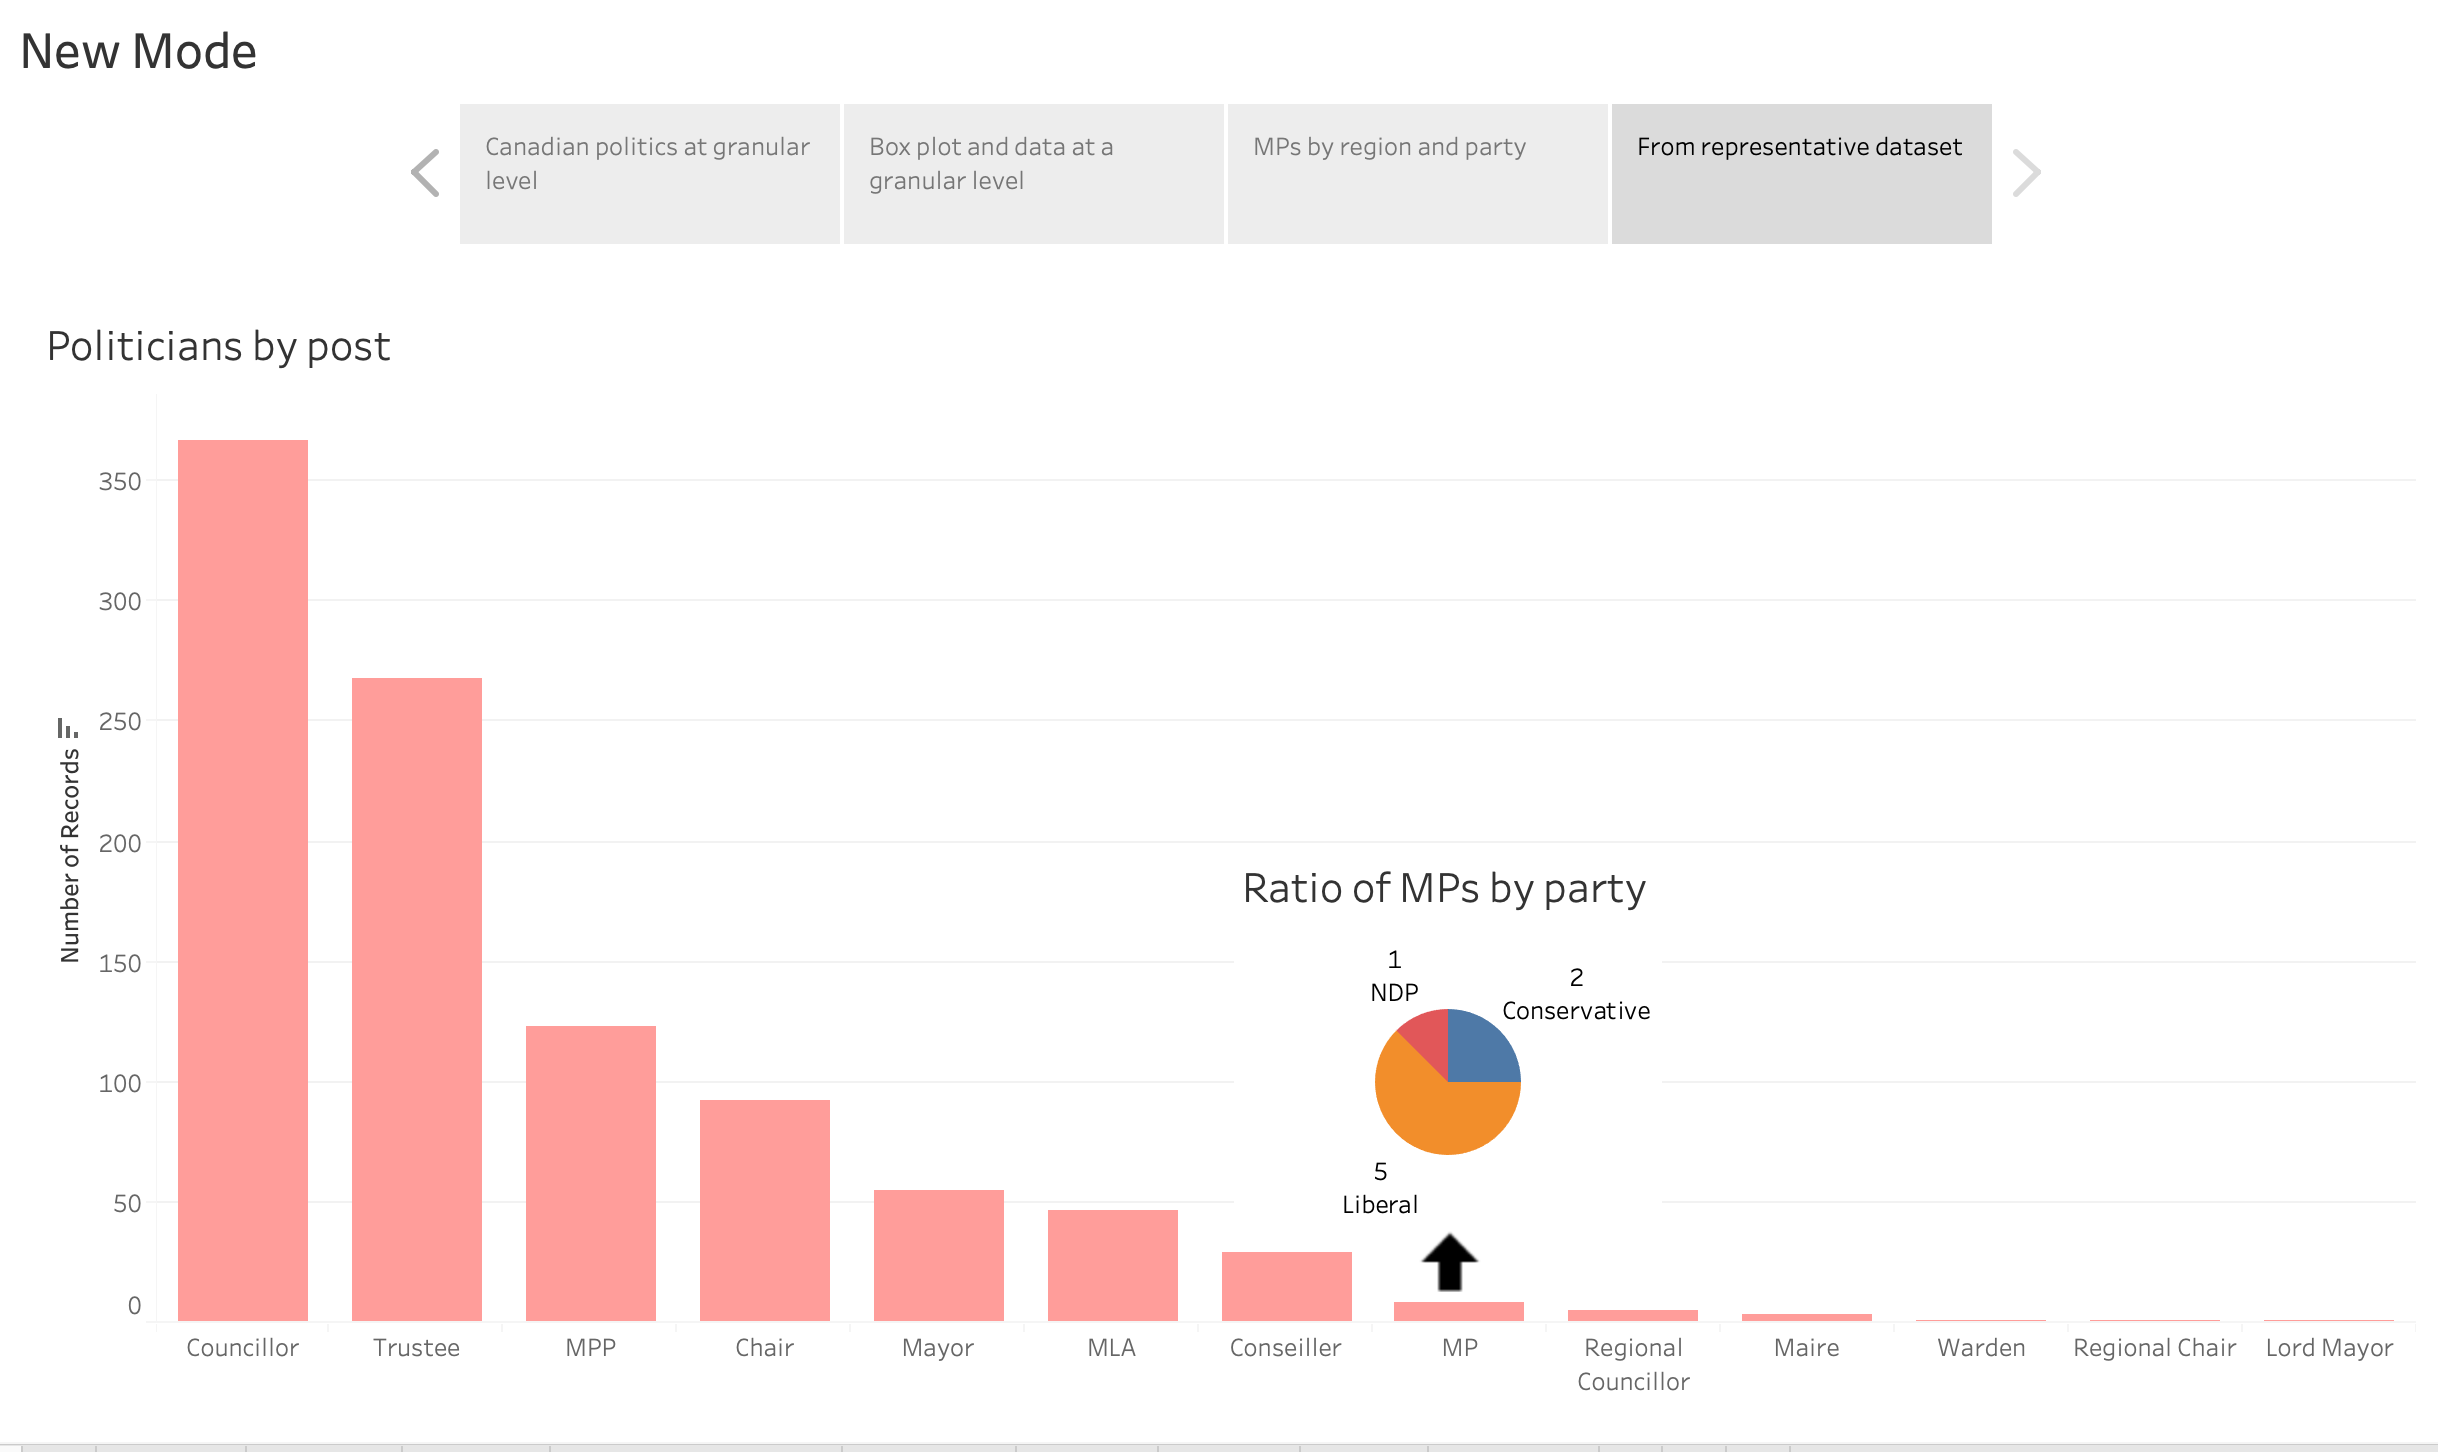

This screenshot's page, from the dashboard's own definition file:
{"tool":"tableau","page":{"name":"MPs ratio","canvas":[1000,1000],"units":"permille","ordinal":2},"visuals":[{"type":"worksheet","title":"Bar Graph","mark":"Automatic","rows":["Number of Records"],"cols":["elected_office"],"box":[6.5,11.1,987,977.8]},{"type":"worksheet","title":"Pie chart","mark":"Pie","box":[502.9,495.2,176.6,331.5]},{"type":"image","param":"Image/2-5 2.png","box":[576.1,828,32.5,55.5]}]}

Visuals, with their boxes on the dashboard's canvas, which has no fixed pixel size, in thousandths of its width and height (x1, y1, x2, y2). These are canvas units, not pixel positions in the 2438x1452 screenshot, which may show the page scaled, cropped or inside an application window:
"Bar Graph" worksheet: {"x1": 6, "y1": 11, "x2": 994, "y2": 989}
"Pie chart" worksheet (Pie marks): {"x1": 503, "y1": 495, "x2": 680, "y2": 827}
image: {"x1": 576, "y1": 828, "x2": 609, "y2": 884}
